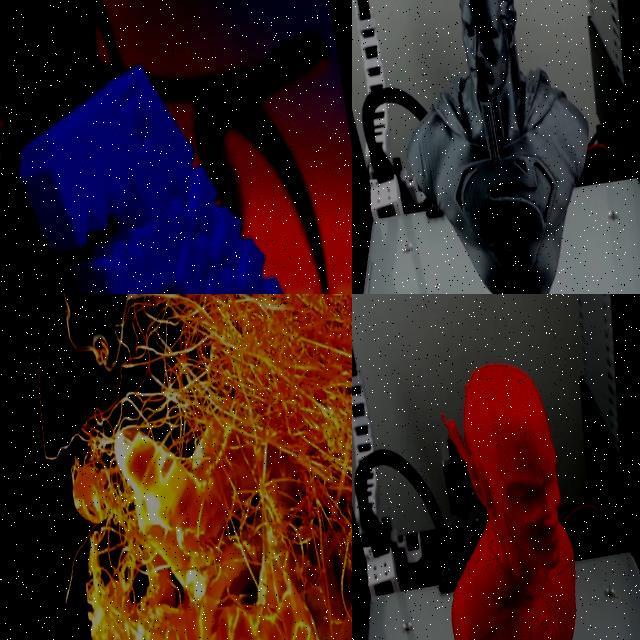spaghetti: (0, 294, 352, 640)
